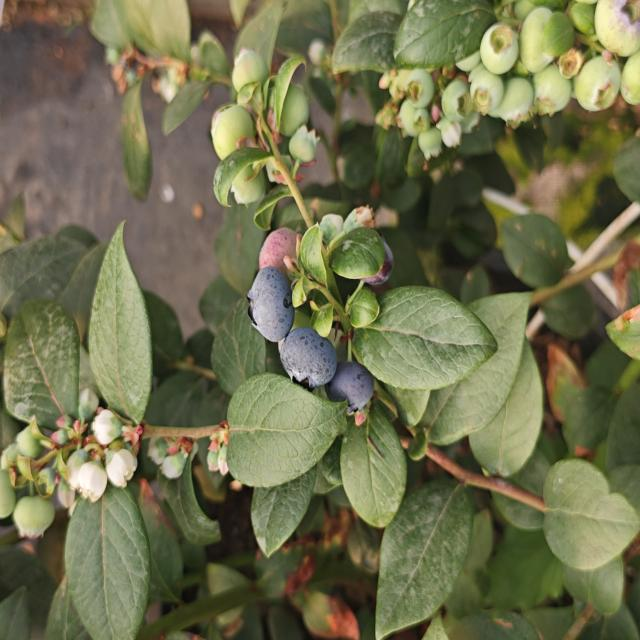ripe: (244, 264, 296, 346), (277, 325, 338, 392), (344, 223, 400, 293), (324, 359, 377, 418)
